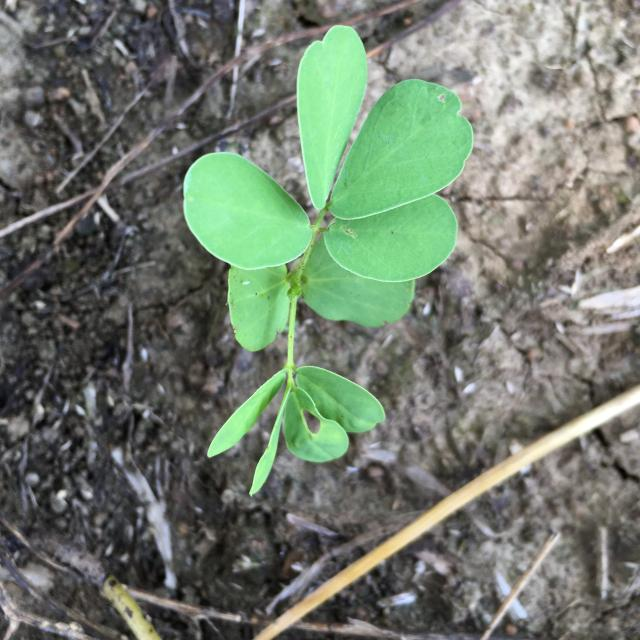Sicklepod: (183, 25, 474, 496)
